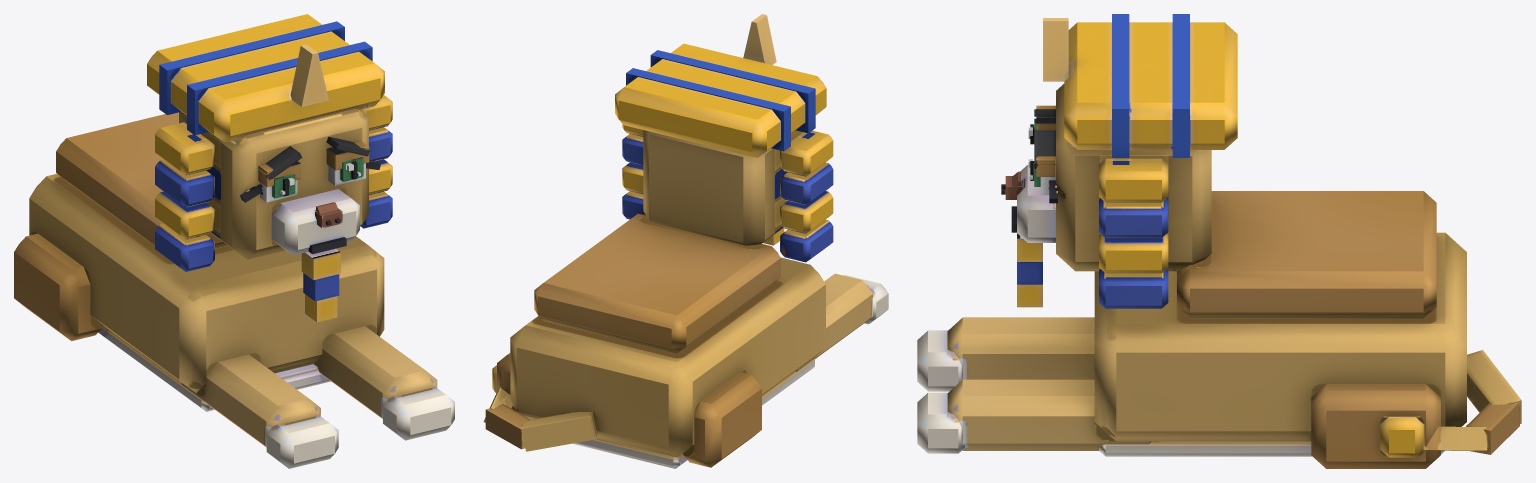
Rendered from SphinxGrognon_Rig.fbx.
3 views of the same model, side by side, from view 1: azimuth 30°, elevation 25°; view 2: azimuth 150°, elevation 25°; view 3: azimuth 270°, elevation 25° (orthographic). The views are drawn at different scales.
Visible parts, largest first — view 1: Head, Body, LegFR, LegFL; view 2: Body, Head, Tail, LegFR; view 3: Body, Head, LegFL, LegFR, Tail.
Boxes of the visible parts, box(x1,y1,x2,y2) form: Head: box(147, 14, 392, 322); Body: box(14, 112, 384, 411); LegFR: box(181, 354, 338, 468); LegFL: box(314, 326, 454, 440); Body: box(497, 213, 825, 468); Head: box(615, 14, 833, 262); Tail: box(483, 365, 597, 451); LegFR: box(795, 273, 888, 371); Body: box(1094, 191, 1466, 468); Head: box(1001, 14, 1237, 308); LegFL: box(917, 379, 1151, 453); LegFR: box(917, 317, 1094, 391); Tail: box(1380, 350, 1521, 457).
Size of the model in its own units: 4.6 by 6 by 8.34.
1 material, 1 textured.
